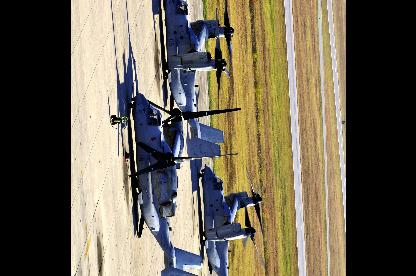Tornado: (127, 58, 241, 273), (158, 0, 234, 157), (196, 162, 266, 273)
